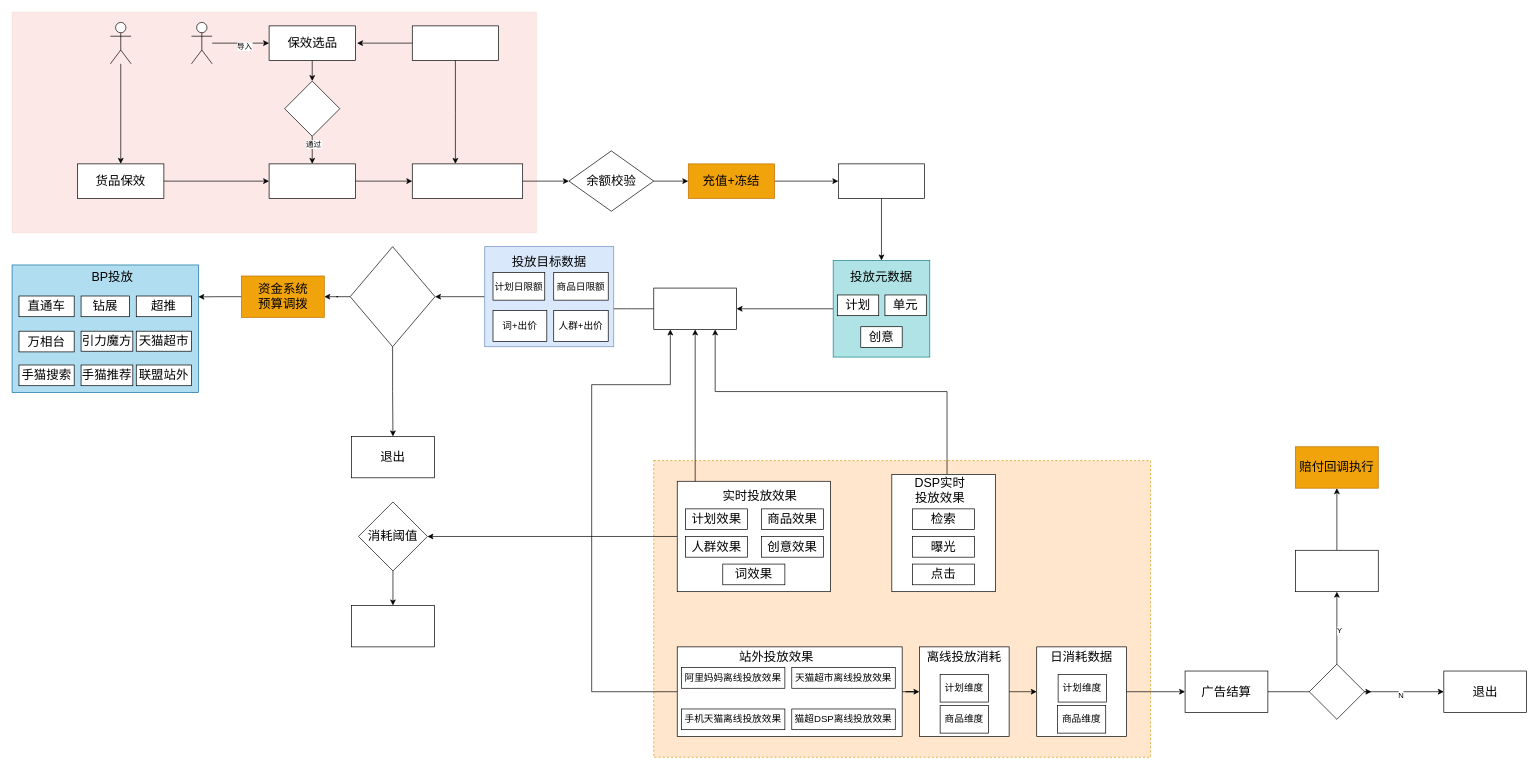
The diagram is 1539 pixels wide and 769 high, and some of its shapes have lost their labels. The centre of each missing label's shape, as x and y in pixels:
BPMS审批流: [1336,571]
业务小二: [201,43]
审核: [312,108]
广告主: [120,43]
广告智投引擎: [881,180]
推广维度 日预算校验: [392,296]
提报商品: [311,180]
暂停投放: [392,626]
算法: [455,42]
算法API: [695,308]
赔付: [1336,691]
预估ROI、GMV: [467,180]
